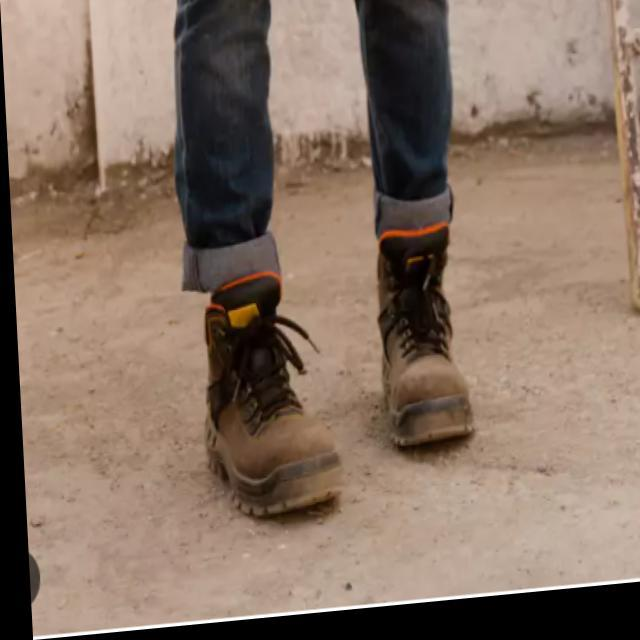boots: (185, 214, 485, 531)
